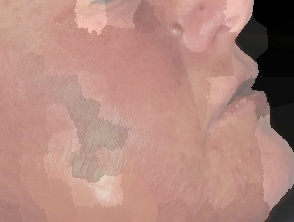SJS-TEN: (6, 126, 294, 222)
